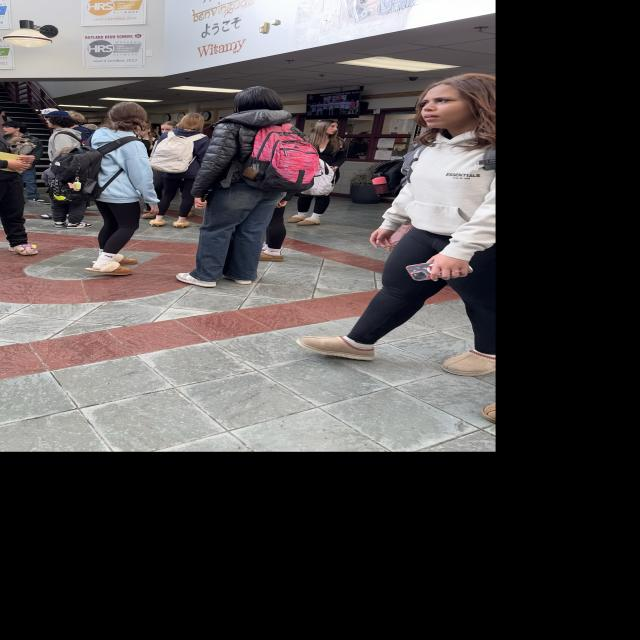pen: (406, 259, 472, 281), (198, 191, 210, 208), (145, 203, 157, 212), (326, 166, 334, 173)
